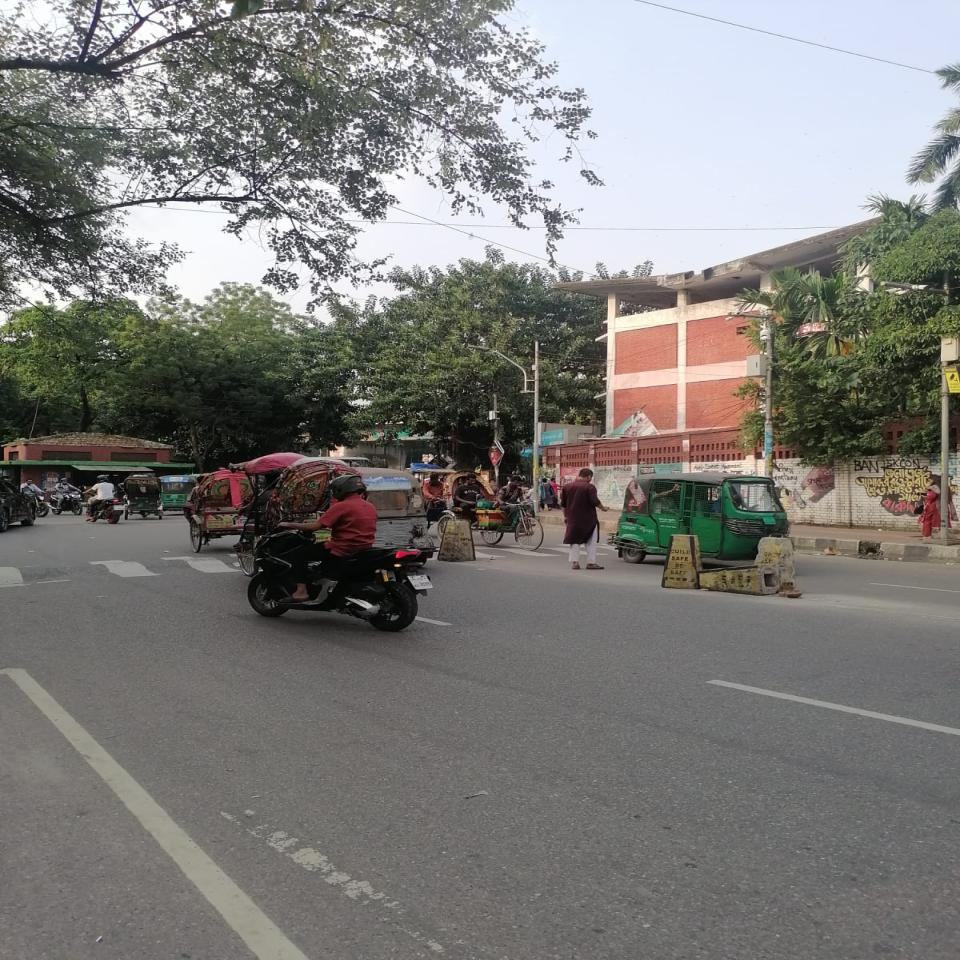person: (560, 468, 610, 571)
